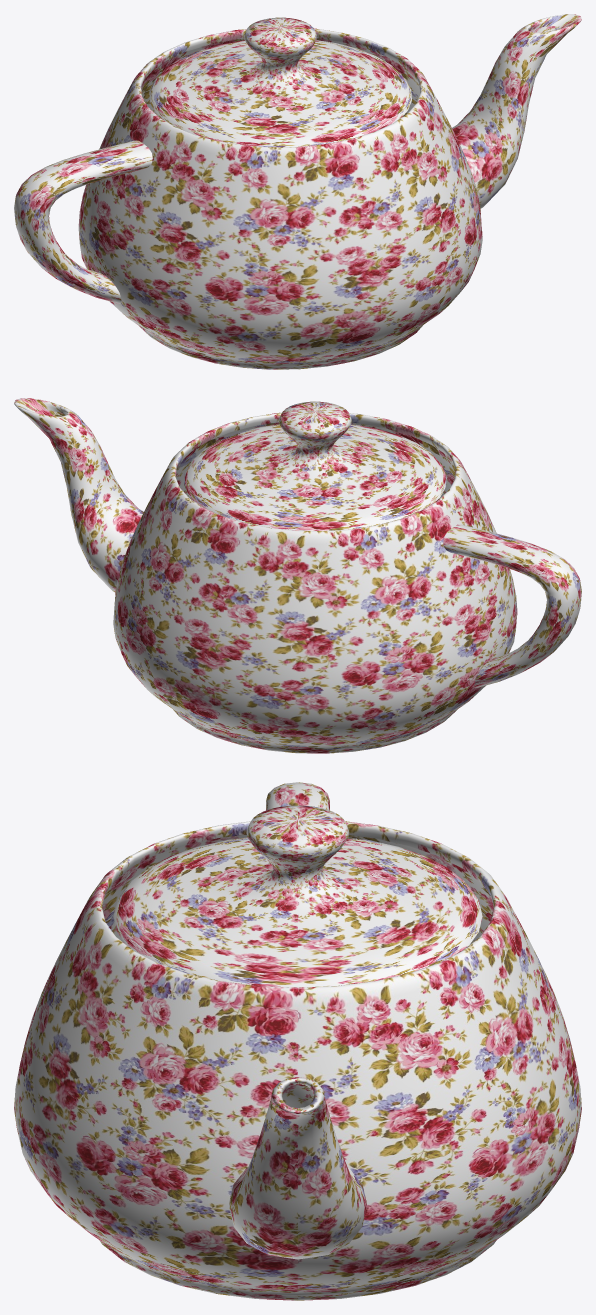
The model's file is teapot.obj.
The picture shows the model from 3 angles, top to bottom: view 1: azimuth 30°, elevation 25°; view 2: azimuth 150°, elevation 25°; view 3: azimuth 270°, elevation 25°; orthographic projection. The views are drawn at different scales.
Visible parts, largest first — view 1: Teapot001; view 2: Teapot001; view 3: Teapot001.
Part boxes in pixels (left/top/right/bottom): Teapot001: left=14, top=14, right=581, bottom=369; Teapot001: left=14, top=398, right=581, bottom=753; Teapot001: left=14, top=782, right=581, bottom=1300.
Bounding box in the file's own units: 63 × 30.85 × 39.17.
